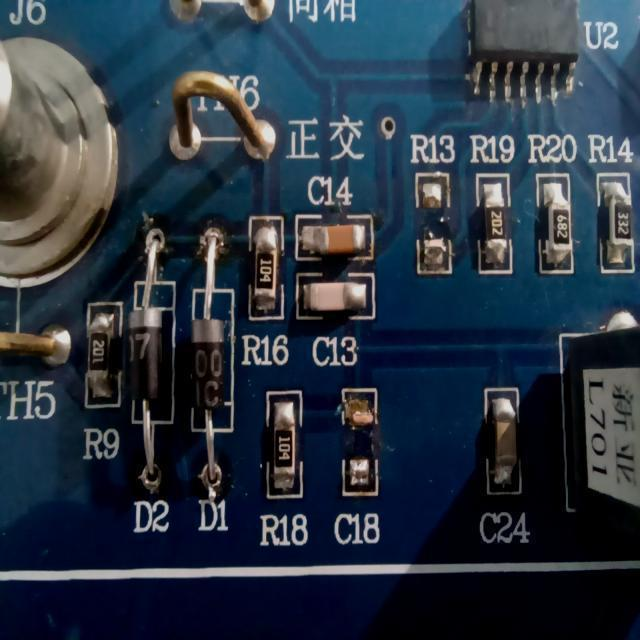Missing component: (403, 124, 462, 290), (335, 382, 384, 548)
